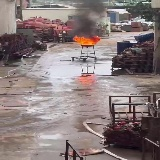fire: (72, 35, 100, 45)
